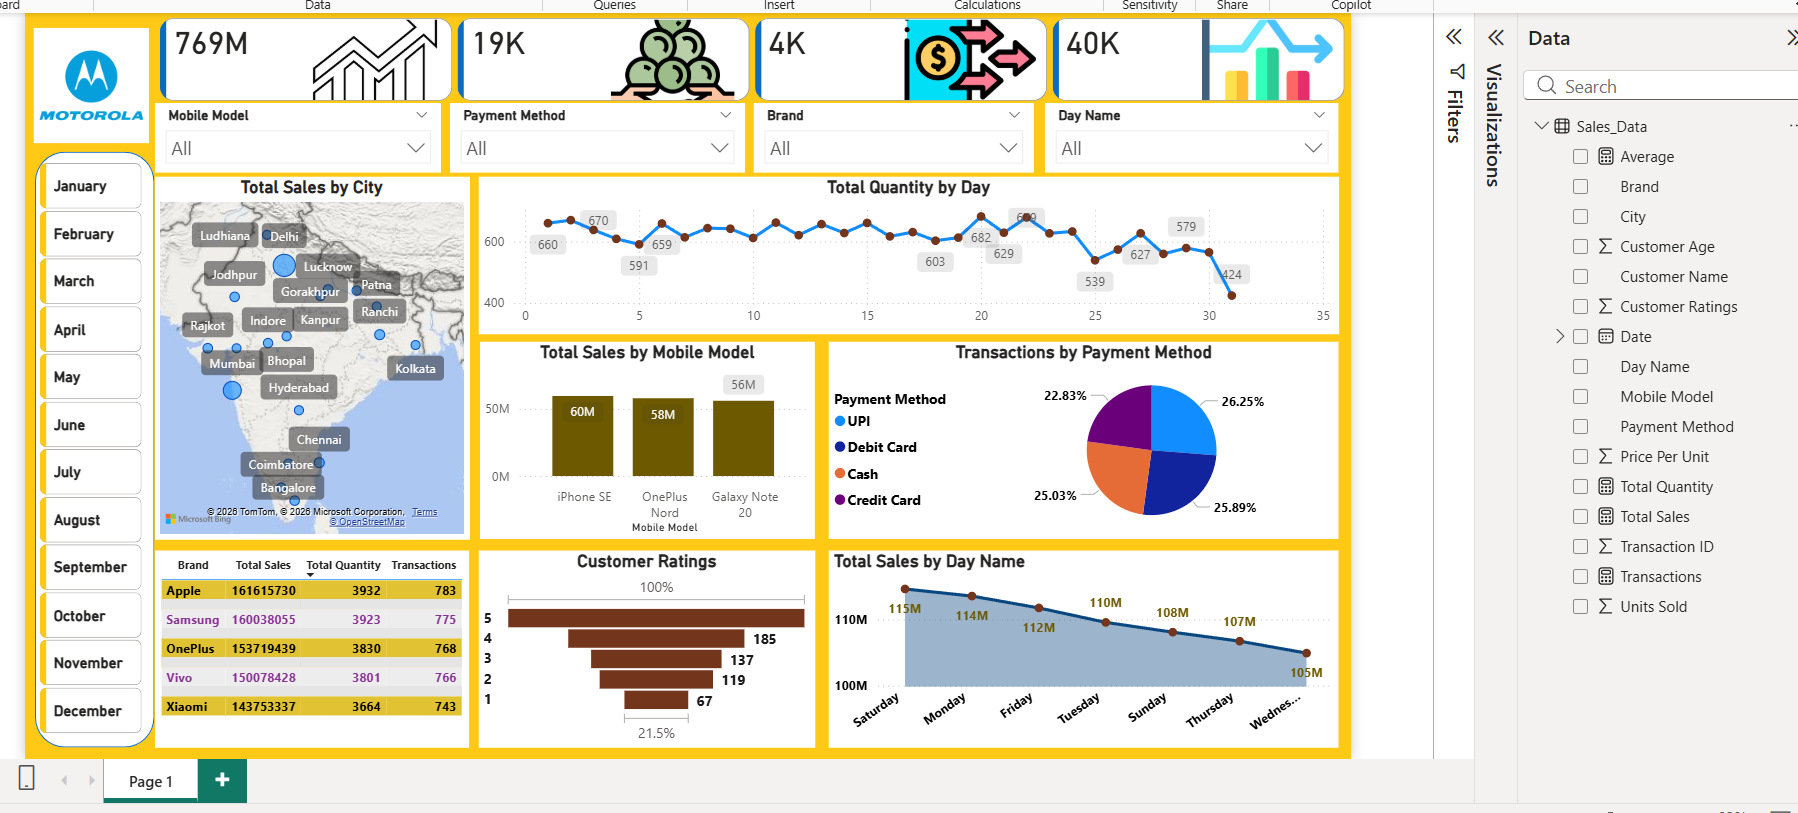

The dashboard page shown, as its layout file describes it:
{"tool":"powerbi","page":{"name":"Page 1","canvas":[1280,720],"ordinal":0},"visuals":[{"type":"shape","box":[9.6,134.5,115.3,575],"z":0},{"type":"advancedSlicerVisual","fields":{"Values":["Sales_Data.Date.Variation.Date Hierarchy.Month"]},"box":[9.7,139.9,108.6,564.6],"z":1000},{"type":"cardVisual","fields":{"Data":["Sales_Data.Total Sales","Sales_Data.Total Quantity","Sales_Data.Transactions","Sales_Data.Average"]},"box":[125.5,0,1154.6,90.5],"z":2000},{"type":"map","fields":{"Category":["Sales_Data.City"],"Size":["Sales_Data.Total Sales"]},"box":[125.5,158,302.8,349.9],"z":3000},{"type":"lineChart","fields":{"Category":["Sales_Data.Date.Variation.Date Hierarchy.Month","Sales_Data.Date.Variation.Date Hierarchy.Day"],"Y":["Sales_Data.Total Quantity"]},"box":[437.9,158,830,152],"z":4000},{"type":"clusteredColumnChart","fields":{"Category":["Sales_Data.Mobile Model"],"Y":["Sales_Data.Total Sales"]},"box":[439.1,317.3,323.3,190.6],"z":5000},{"type":"pieChart","fields":{"Y":["Sales_Data.Transactions"],"Category":["Sales_Data.Payment Method"]},"box":[775.7,317.3,492.2,190.6],"z":6000},{"type":"funnel","title":"Customer Ratings","fields":{"Category":["Sales_Data.Customer Ratings"],"Y":["CountNonNull(Sales_Data.Customer Ratings)"]},"box":[437.9,518.8,324.5,190.6],"z":7000},{"type":"areaChart","fields":{"Y":["Sales_Data.Total Sales"],"Category":["Sales_Data.Day Name"]},"box":[775.7,518.8,492.2,190.6],"z":8000},{"type":"tableEx","fields":{"Values":["Sales_Data.Brand","Sales_Data.Total Sales","Sales_Data.Total Quantity","Sales_Data.Transactions"]},"box":[125.5,518.8,302.8,190.6],"z":9000},{"type":"slicer","fields":{"Values":["Sales_Data.Mobile Model"]},"box":[125.5,86.9,276.3,67.6],"z":10000},{"type":"slicer","fields":{"Values":["Sales_Data.Payment Method"]},"box":[410.2,86.9,284.7,67.6],"z":11000},{"type":"slicer","fields":{"Values":["Sales_Data.Brand"]},"box":[703.4,86.9,270.2,67.6],"z":12000},{"type":"slicer","fields":{"Values":["Sales_Data.Day Name"]},"box":[984.5,86.9,283.5,67.6],"z":13000},{"type":"image","box":[3.6,0,120.6,139.9],"z":14000}]}

Visuals, with their boxes on the page's 1280x720 design canvas (x1, y1, x2, y2). These are canvas units, not pixel positions in the 1798x813 screenshot, which may show the page scaled, cropped or inside an application window:
shape: bbox=(10, 134, 125, 710)
advancedSlicerVisual - Sales_Data.Date.Variation.Date Hierarchy.Month: bbox=(10, 140, 118, 704)
cardVisual - Sales_Data.Total Sales x Sales_Data.Total Quantity: bbox=(126, 0, 1280, 90)
map - Sales_Data.City x Sales_Data.Total Sales: bbox=(126, 158, 428, 508)
lineChart - Sales_Data.Date.Variation.Date Hierarchy.Month x Sales_Data.Date.Variation.Date Hierarchy.Day: bbox=(438, 158, 1268, 310)
clusteredColumnChart - Sales_Data.Mobile Model x Sales_Data.Total Sales: bbox=(439, 317, 762, 508)
pieChart - Sales_Data.Transactions x Sales_Data.Payment Method: bbox=(776, 317, 1268, 508)
"Customer Ratings" funnel: bbox=(438, 519, 762, 709)
areaChart - Sales_Data.Total Sales x Sales_Data.Day Name: bbox=(776, 519, 1268, 709)
tableEx - Sales_Data.Brand x Sales_Data.Total Sales: bbox=(126, 519, 428, 709)
slicer - Sales_Data.Mobile Model: bbox=(126, 87, 402, 154)
slicer - Sales_Data.Payment Method: bbox=(410, 87, 695, 154)
slicer - Sales_Data.Brand: bbox=(703, 87, 974, 154)
slicer - Sales_Data.Day Name: bbox=(984, 87, 1268, 154)
image: bbox=(4, 0, 124, 140)
